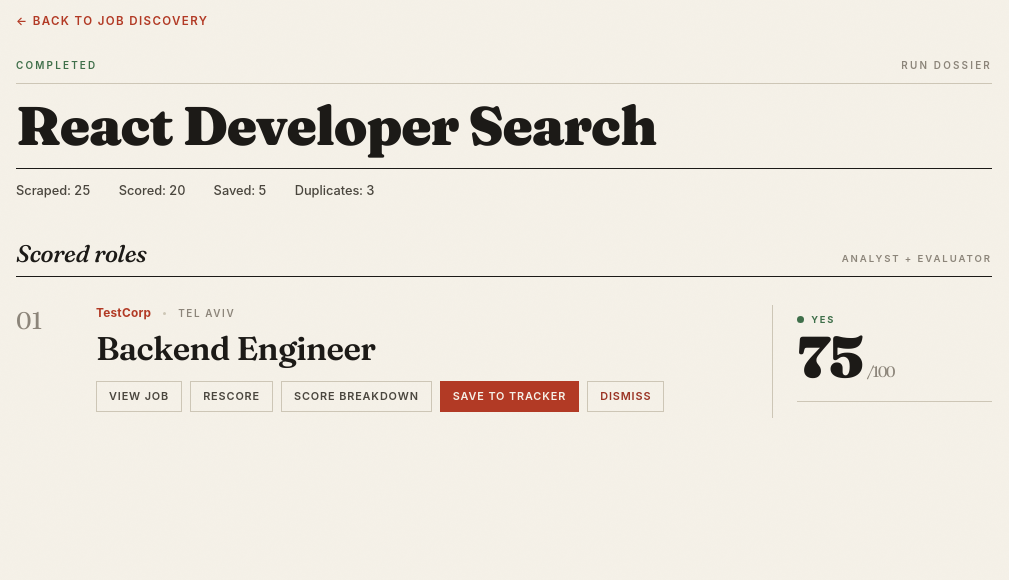
it: RunDetailPage - Signals (green/red flags) in breakdown panel › shows red flags in the Signals section once opened
Click the button "Score Breakdown" at (356, 396), box [281,381,432,412]
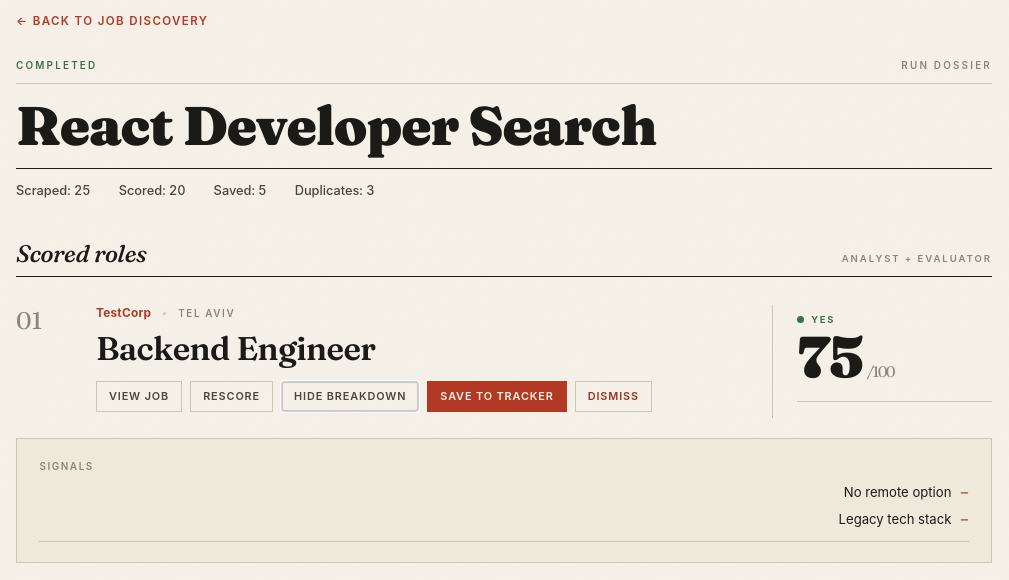
Result: the text "No remote option" is shown at [844,483,951,503]
Result: the text "Legacy tech stack" is shown at [839,510,951,530]
